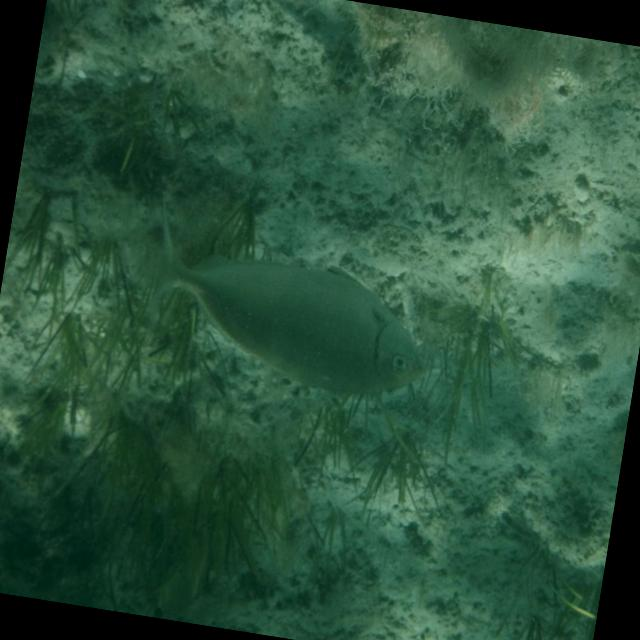Sokar Baligi: (123, 185, 454, 420)
